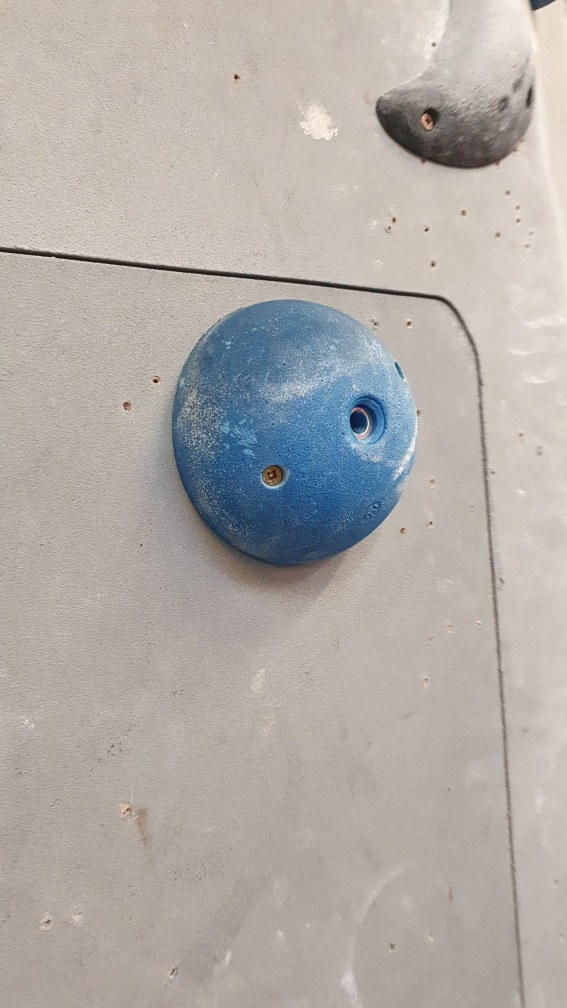Sloper: (168, 296, 421, 572)
